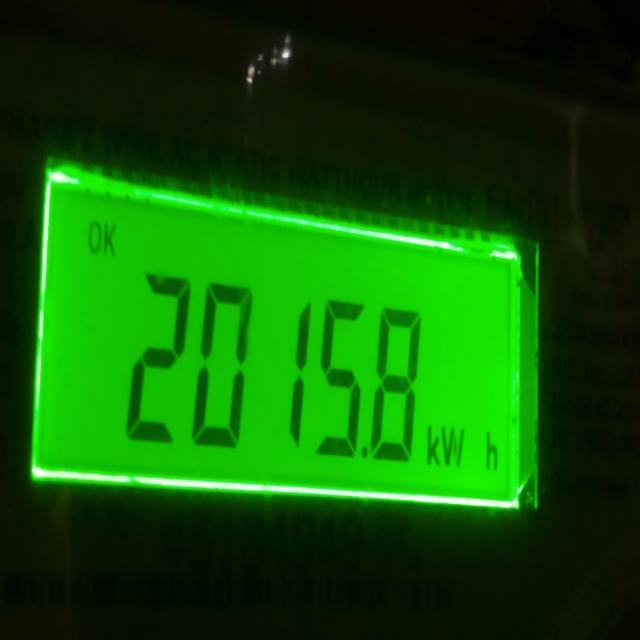.: (362, 443, 368, 462)
0: (195, 283, 253, 445)
1: (292, 301, 309, 445)
2: (128, 274, 187, 443)
5: (318, 300, 361, 454)
8: (368, 307, 419, 459)
